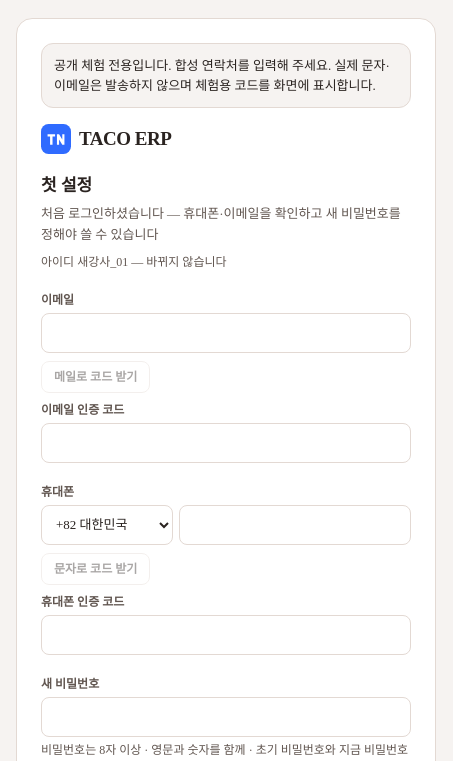
첫 설정 화면 › 서버 거절 문장을 그대로 보이고 세션을 바꾸지 않는다
Type "taken@tnacademy.kr" into the field labelled "이메일" at (226, 333), box [41,313,411,353]
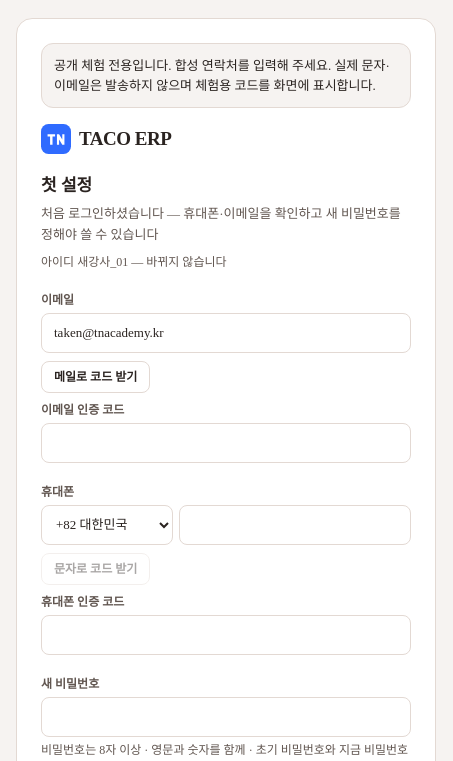
Click the button "메일로 코드 받기" at (96, 377), box [41,361,150,393]
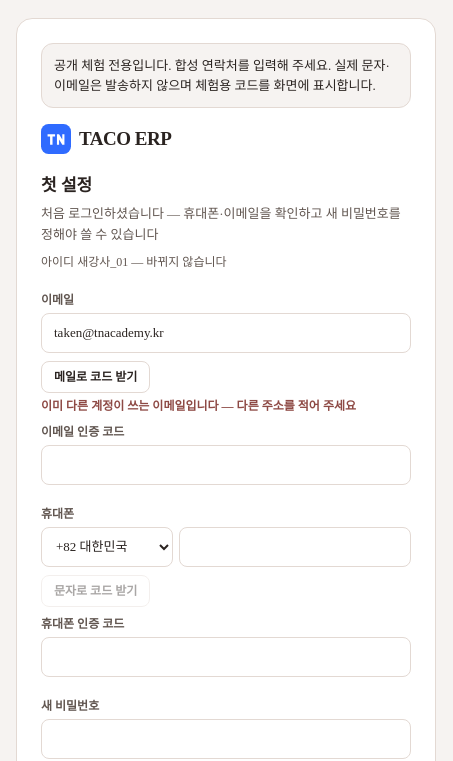
Check: the text "이미 다른 계정이 쓰는 이메일입니다 — 다른 주소를 적어 주세요" is shown, box [41,397,411,415]
Type "01012345678" into the field labelled "휴대폰" at (295, 547), box [179,527,411,567]
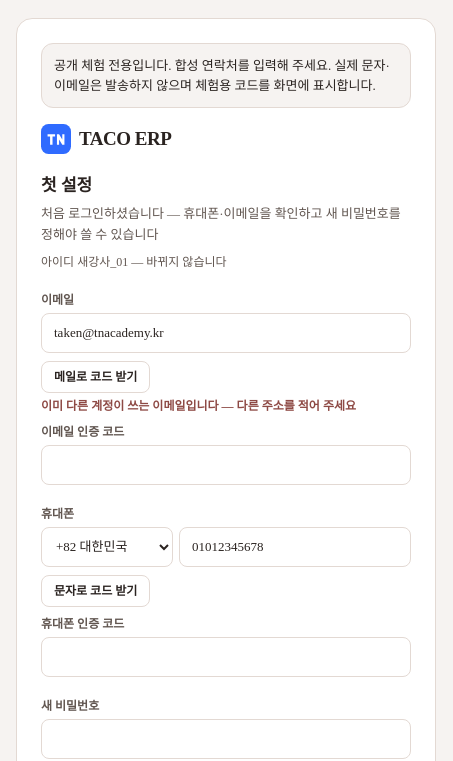
Type "111111" into the field labelled "이메일 인증 코드" at (226, 465), box [41,445,411,485]
Type "000000" into the field labelled "휴대폰 인증 코드" at (226, 657), box [41,637,411,677]
Type "Brand-new-77" into the password field labelled "새 비밀번호" at (226, 739), box [41,719,411,759]
(page scrolled)
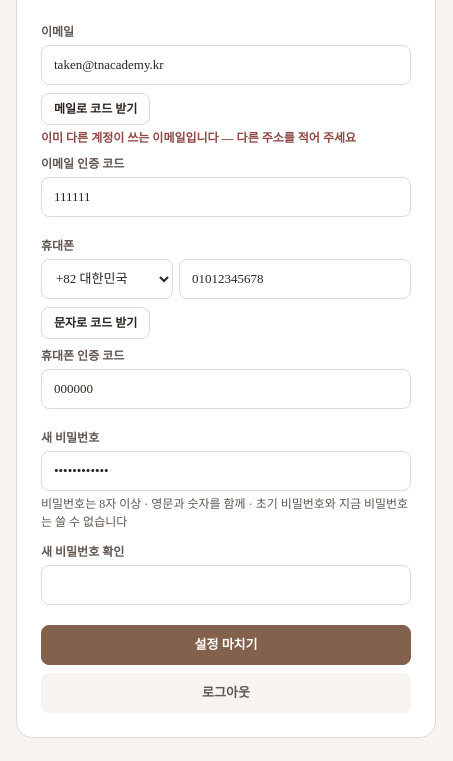
Type "Brand-new-77" into the password field labelled "새 비밀번호 확인" at (226, 585), box [41,565,411,605]
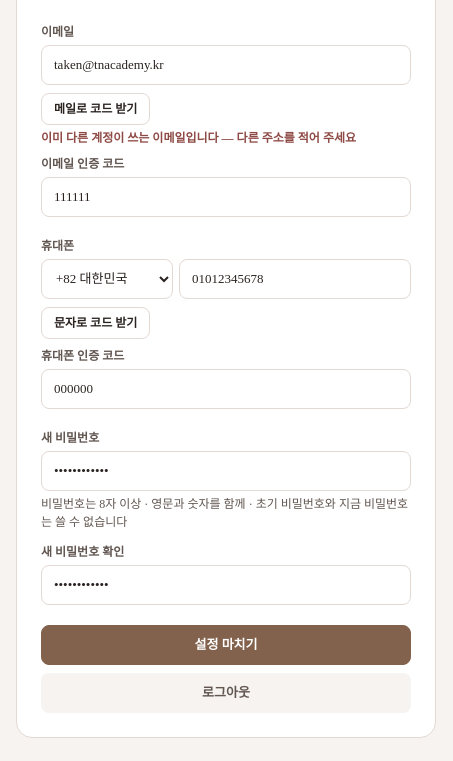
Click the button "설정 마치기" at (226, 645), box [41,625,411,665]
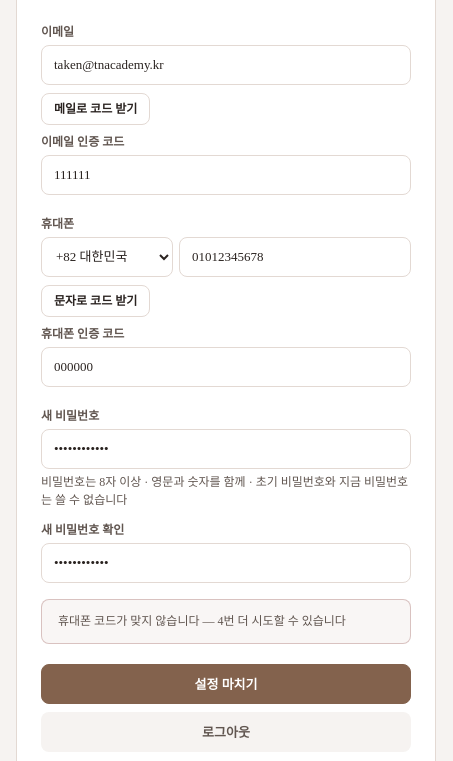
Check: the button "설정 마치기" is enabled, box [41,664,411,704]
Check: the text "휴대폰 코드가 맞지 않습니다 — 4번 더 시도할 수 있습니다" is shown, box [41,599,411,644]
